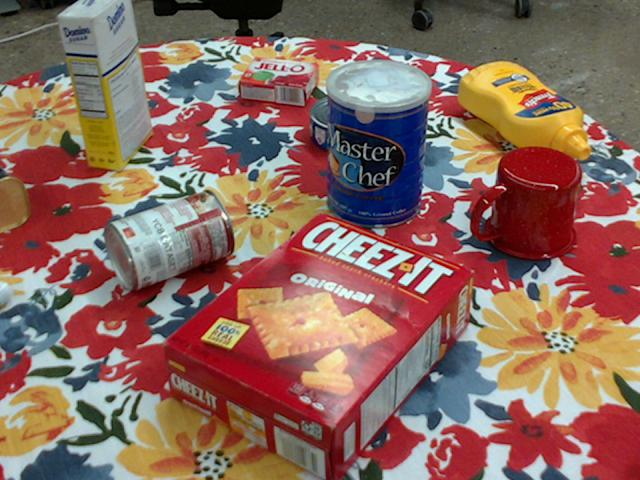cracker_box: (159, 214, 471, 479)
gelatin_box: (235, 59, 317, 108)
large_marker: (0, 280, 12, 304)
master_chef_can: (326, 60, 431, 229)
mug: (472, 147, 581, 261)
mustard_bottle: (456, 61, 589, 160)
potted_meat_can: (0, 165, 29, 231)
sugar_box: (58, 0, 151, 168)
tomato_soup_can: (101, 189, 232, 291)
tuna_fish_can: (308, 96, 381, 153)
